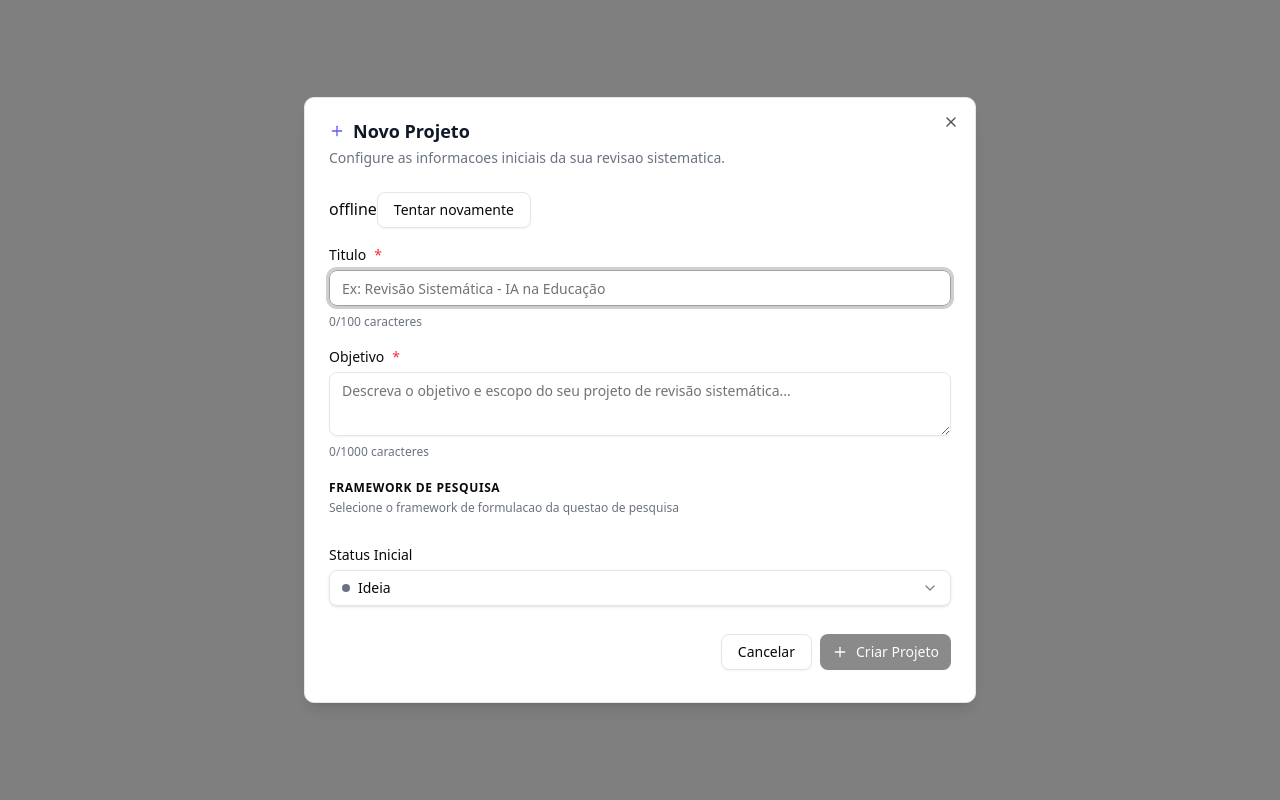
Scenario: shows a catalog error and retries while creation is disabled
The width and height of the screenshot is (1280, 800).
Expected: the message shows "offline", left=329, top=198, right=377, bottom=220
Expected: the button "Criar Projeto" is disabled, left=820, top=634, right=951, bottom=670
Click the button "Tentar novamente" at (454,210), box left=377, top=192, right=531, bottom=228
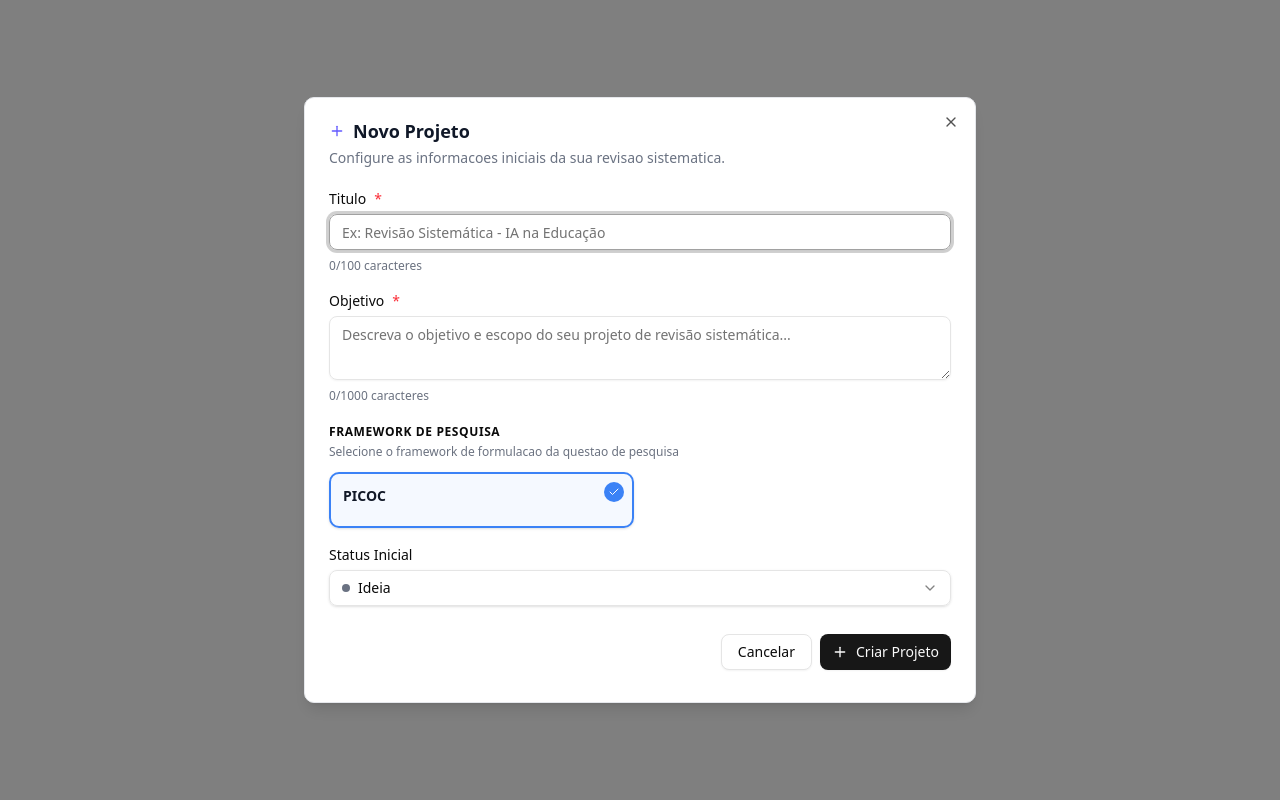
Now the button "Criar Projeto" is enabled, box left=820, top=634, right=951, bottom=670
